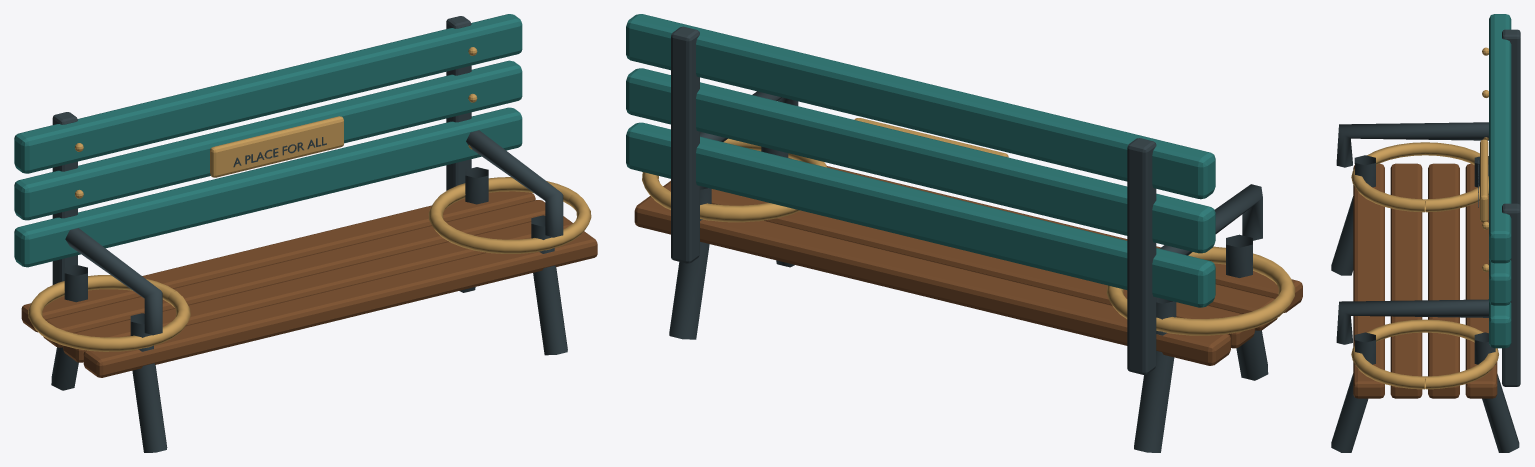
Rendered from prop_aegis_civic_bench.glb.
3 renders of one model, left to right at view 1: azimuth 30°, elevation 25°; view 2: azimuth 150°, elevation 25°; view 3: azimuth 270°, elevation 25°, orthographic. The views are drawn at different scales.
Parts seen in each view (by area): view 1: aegis_civic_bench.001; view 2: aegis_civic_bench.001; view 3: aegis_civic_bench.001.
Boxes of the visible parts, x1=… form: aegis_civic_bench.001: x1=14, y1=14, x2=597, y2=452; aegis_civic_bench.001: x1=626, y1=14, x2=1302, y2=452; aegis_civic_bench.001: x1=1331, y1=14, x2=1520, y2=452.
Size of the model in its own units: 3.03 by 1.43 by 1.01.
